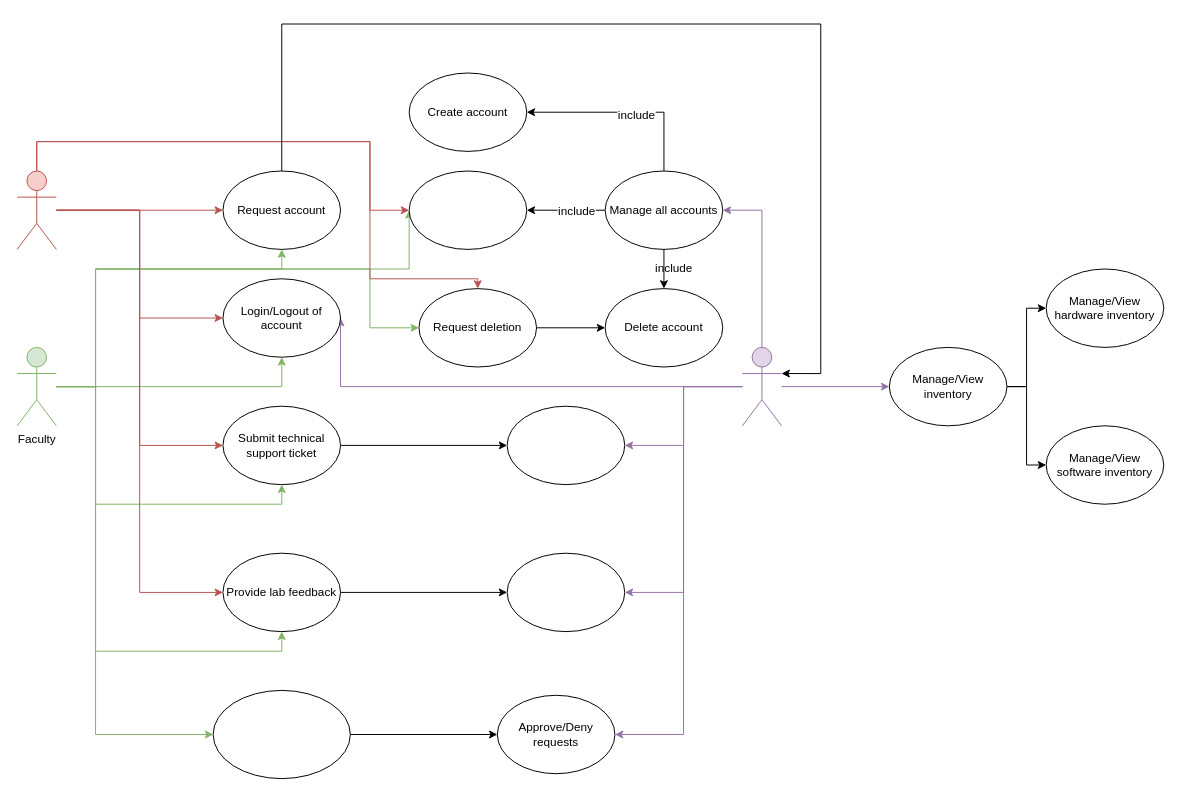
Some shapes in this 1181 by 796 pixel diagram are drawn without their labels. Each missing label, with the centre of its shape:
"Lab Operator" goes at [761,386].
"Read lab feedback" goes at [565,592].
"Read/Close technical support ticket" goes at [565,445].
"Request hardware/software installation or lab time" goes at [281,734].
"Student" goes at [36,209].
"Update account" goes at [467,209].
